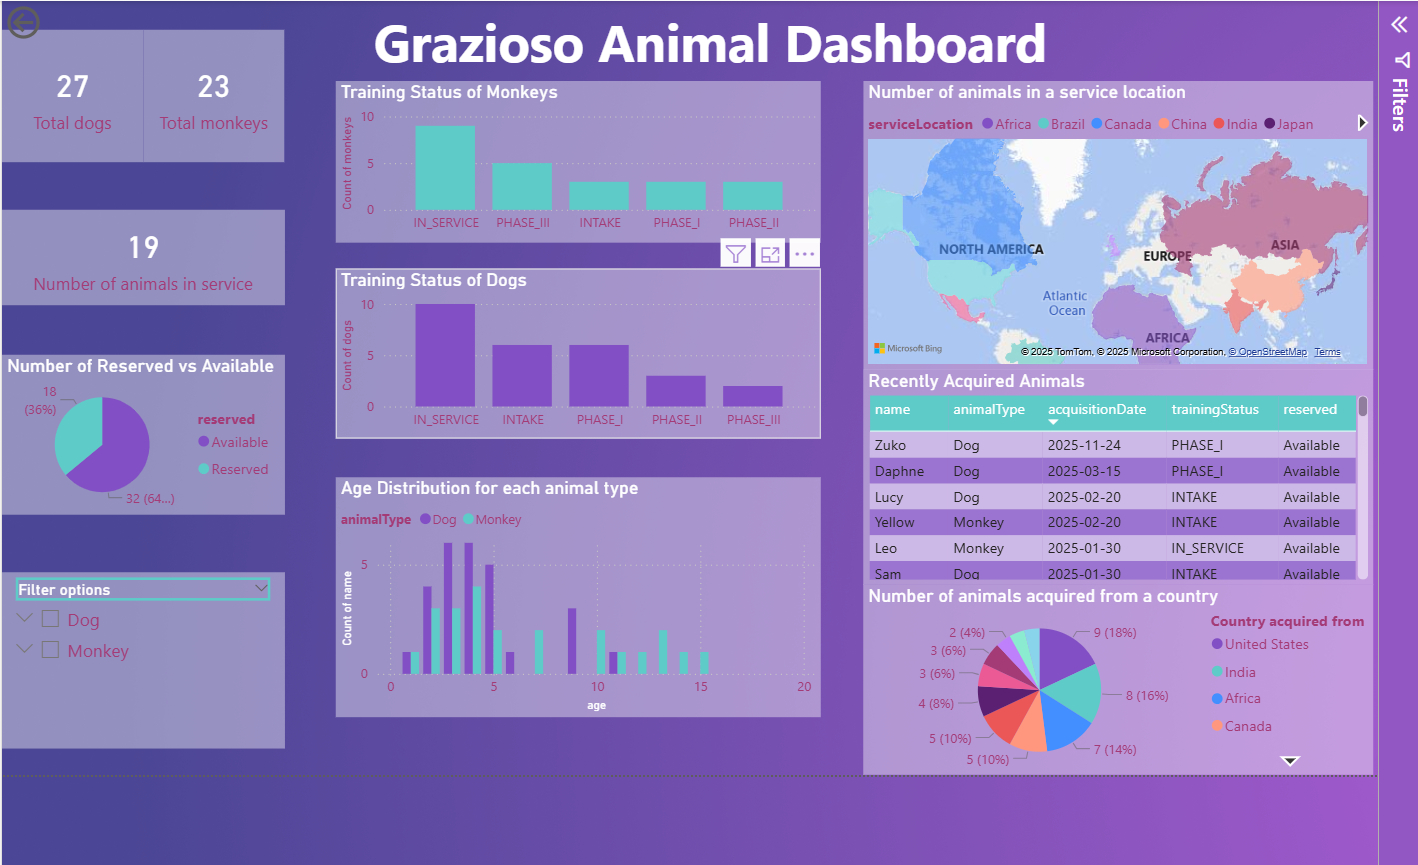

The dashboard page shown, as its layout file describes it:
{"tool":"powerbi","page":{"name":"Grazioso Animal Dashboard","canvas":[1280,720],"ordinal":0},"visuals":[{"type":"textbox","box":[272.9,0,771.4,80],"z":0},{"type":"card","fields":{"Values":["CountNonNull(dogs.id)"]},"box":[0,27.1,131.4,122.9],"z":1000},{"type":"card","fields":{"Values":["CountNonNull(monkeys.id)"]},"box":[131.4,27.1,131.4,122.9],"z":2000},{"type":"actionButton","box":[0,0,100,40],"z":3000},{"type":"columnChart","title":"Training Status of Monkeys","fields":{"Category":["monkeys.trainingStatus"],"Y":["CountNonNull(monkeys.name)"]},"box":[310,74.3,451.4,150],"z":4000},{"type":"columnChart","title":"Training Status of Dogs","fields":{"Y":["CountNonNull(dogs.name)"],"Category":["dogs.trainingStatus"]},"box":[310,248.6,451.4,158.6],"z":5000},{"type":"pieChart","title":"Number of Reserved vs Available","fields":{"Y":["CountNonNull(allAnimals.name)"],"Category":["allAnimals.reserved"]},"box":[0,328.6,262.9,148.6],"z":6000},{"type":"card","fields":{"Values":["CountNonNull(allAnimals.trainingStatus)"]},"box":[0,194.3,262.9,88.6],"z":7000},{"type":"filledMap","title":"Number of animals in a service location","fields":{"Category":["allAnimals.serviceLocation"],"Series":["allAnimals.serviceLocation"]},"box":[801.4,74.3,474.3,268.6],"z":8000},{"type":"tableEx","title":"Recently Acquired Animals","fields":{"Values":["allAnimals.name","allAnimals.animalType","allAnimals.acquisitionDate","allAnimals.trainingStatus","allAnimals.reserved"]},"box":[801.4,342.9,474.3,200],"z":9000},{"type":"slicer","fields":{"Values":["allAnimals.animalType","allAnimals.trainingStatus","allAnimals.reserved","allAnimals.serviceLocation"]},"box":[0,531.4,262.9,164.3],"z":9001},{"type":"clusteredColumnChart","title":"Age Distribution for each animal type","fields":{"Category":["allAnimals.age"],"Y":["CountNonNull(allAnimals.name)"],"Series":["allAnimals.animalType"]},"box":[310,442.9,451.4,222.9],"z":9002},{"type":"pieChart","title":"Number of animals acquired from a country","fields":{"Category":["allAnimals.acquisitionLocation"],"Y":["CountNonNull(allAnimals.id)"]},"box":[801.4,542.9,474.3,177.1],"z":9003}]}

Visuals, with their boxes in screenshot pixels (x1, y1, x2, y2):
textbox: left=287, top=0, right=1130, bottom=84
card - CountNonNull(dogs.id): left=0, top=26, right=132, bottom=160
card - CountNonNull(monkeys.id): left=132, top=26, right=276, bottom=160
actionButton: left=0, top=0, right=98, bottom=40
"Training Status of Monkeys" columnChart: left=328, top=77, right=821, bottom=241
"Training Status of Dogs" columnChart: left=328, top=268, right=821, bottom=441
"Number of Reserved vs Available" pieChart: left=0, top=355, right=276, bottom=518
card - CountNonNull(allAnimals.trainingStatus): left=0, top=209, right=276, bottom=305
"Number of animals in a service location" filledMap: left=864, top=77, right=1383, bottom=371
"Recently Acquired Animals" tableEx: left=864, top=371, right=1383, bottom=589
slicer - allAnimals.animalType x allAnimals.trainingStatus: left=0, top=577, right=276, bottom=756
"Age Distribution for each animal type" clusteredColumnChart: left=328, top=480, right=821, bottom=724
"Number of animals acquired from a country" pieChart: left=864, top=589, right=1383, bottom=783
